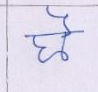au_matra: (51, 8, 74, 59)
